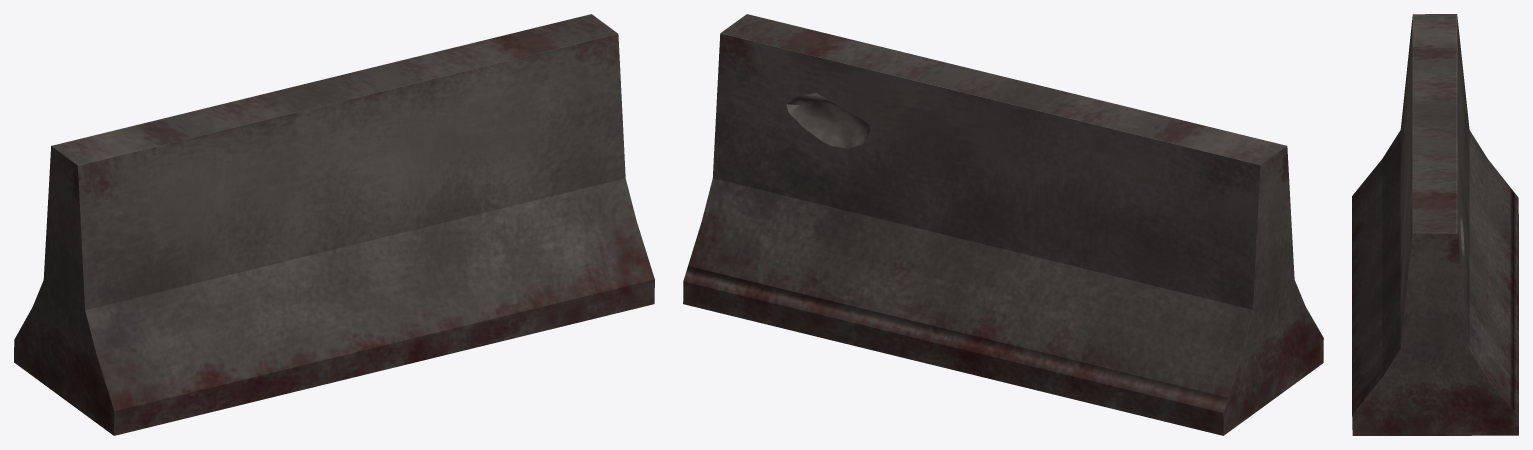
The model's file is Barrier3-1.fbx.
3 renders of one model, left to right at view 1: azimuth 30°, elevation 25°; view 2: azimuth 150°, elevation 25°; view 3: azimuth 270°, elevation 25°, orthographic. The views are drawn at different scales.
Parts seen in each view (by area): view 1: Barrier3; view 2: Barrier3; view 3: Barrier3.
Boxes of the visible parts, <box> form: Barrier3: <box>14,14,654,435</box>; Barrier3: <box>683,14,1323,435</box>; Barrier3: <box>1352,14,1518,435</box>.
Size of the model in its own units: 28.49 by 12.29 by 9.16.
